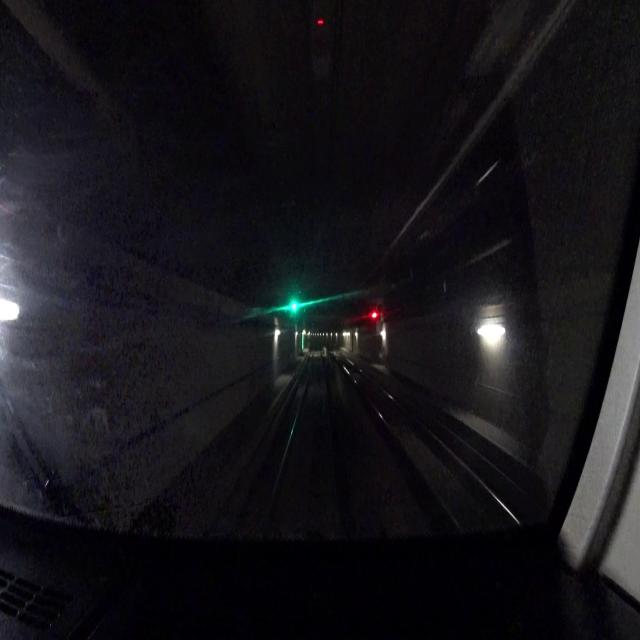rail-track: (336, 354, 514, 530), (265, 352, 347, 539)
